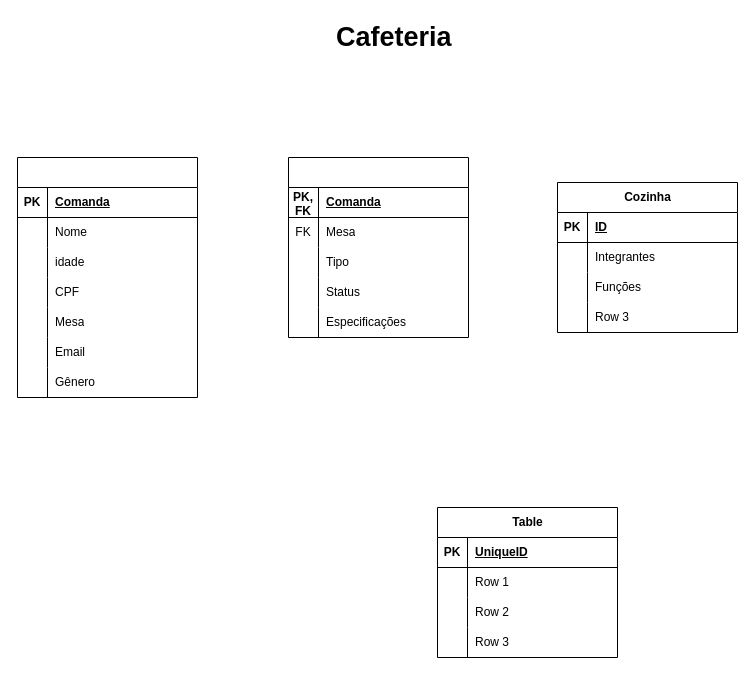
This 755x675 diagram has some shape labels left out. The box of each missing label's shape, as (x1, y1, x2, y2) in pixels:
Cliente: (16, 156, 198, 398)
Pedido: (288, 156, 468, 338)
